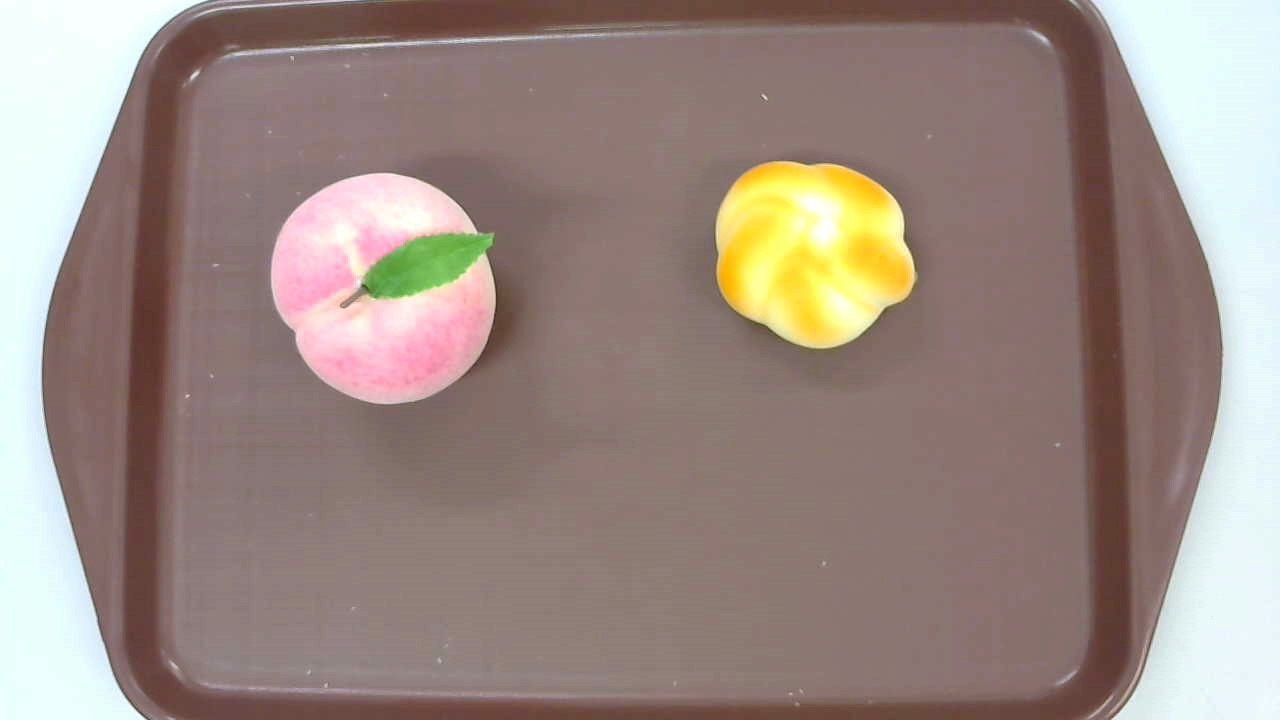peach: (270, 172, 497, 406)
twist bread: (712, 160, 918, 348)
